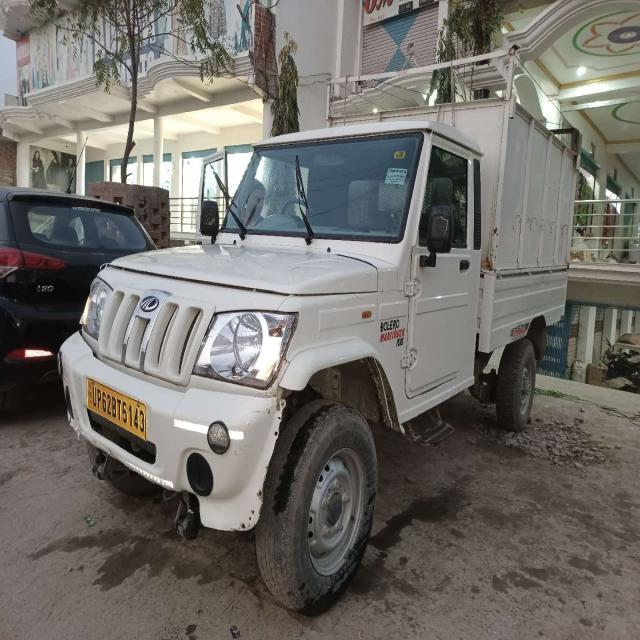light_vehicle: (58, 139, 587, 525)
